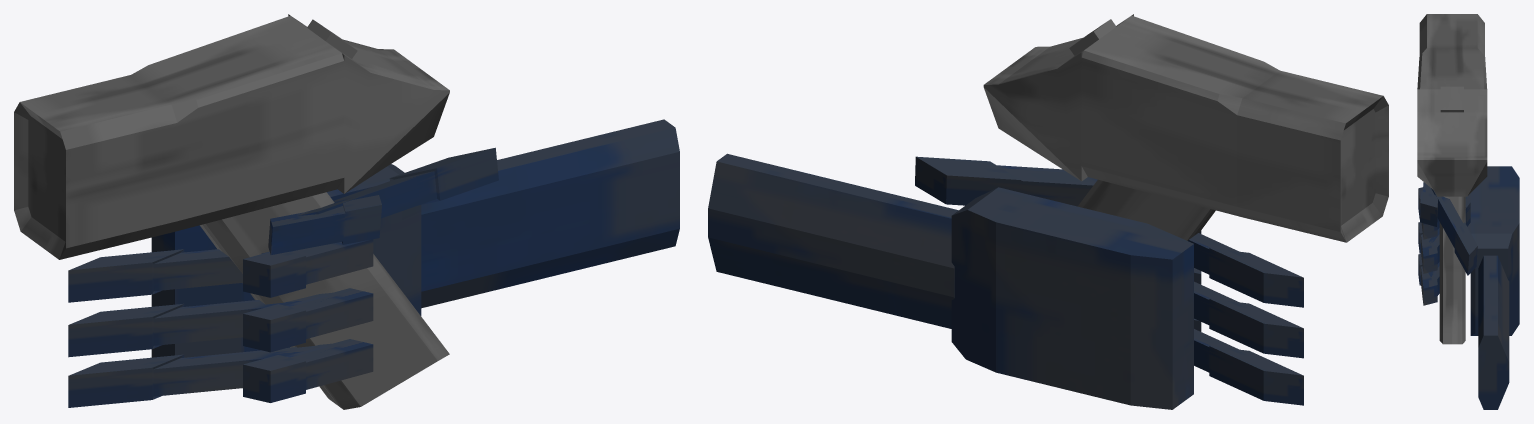
Rendered from V1HandWithGun.fbx.
3 renders of one model, left to right at view 1: azimuth 30°, elevation 25°; view 2: azimuth 150°, elevation 25°; view 3: azimuth 270°, elevation 25°, orthographic. The views are drawn at different scales.
Parts seen in each view (by area): view 1: guntop, arm, gunbottom, palm, finger, finger.001, finger.002, finger.005, finger.006, finger.003, finger.007, finger.004; view 2: guntop, palm, arm, finger.003, finger.002, finger, finger.001, gunbottom; view 3: guntop, palm, arm, gunbottom, finger.003, finger.006, finger.004, finger.005, finger.001, finger.007, finger.
Boxes of the visible parts, x1,y1,x2,y2 form: guntop: (14,14,449,259); arm: (421,119,679,308); gunbottom: (200,192,449,409); palm: (151,164,421,357); finger: (68,342,341,407); finger.001: (68,291,342,357); finger.002: (68,249,269,302); finger.005: (243,339,373,402); finger.006: (243,288,373,352); finger.003: (298,147,498,218); finger.007: (243,239,373,297); finger.004: (268,195,381,254); guntop: (983,14,1388,242); palm: (951,187,1193,409); arm: (708,153,958,328); finger.003: (915,156,1097,206); finger.002: (1188,233,1303,307); finger: (1194,329,1303,405); finger.001: (1194,281,1303,358); gunbottom: (1077,179,1215,240); guntop: (1417,14,1487,196); palm: (1470,166,1519,335); arm: (1478,255,1509,409); gunbottom: (1439,196,1465,344); finger.003: (1431,188,1477,275); finger.006: (1418,222,1437,273); finger.004: (1420,182,1438,226); finger.005: (1418,254,1437,305); finger.001: (1429,193,1470,263); finger.007: (1418,187,1437,239); finger: (1428,223,1470,295).
Size of the model in its own units: 499 by 276 by 107.
12 materials, 12 textured.
